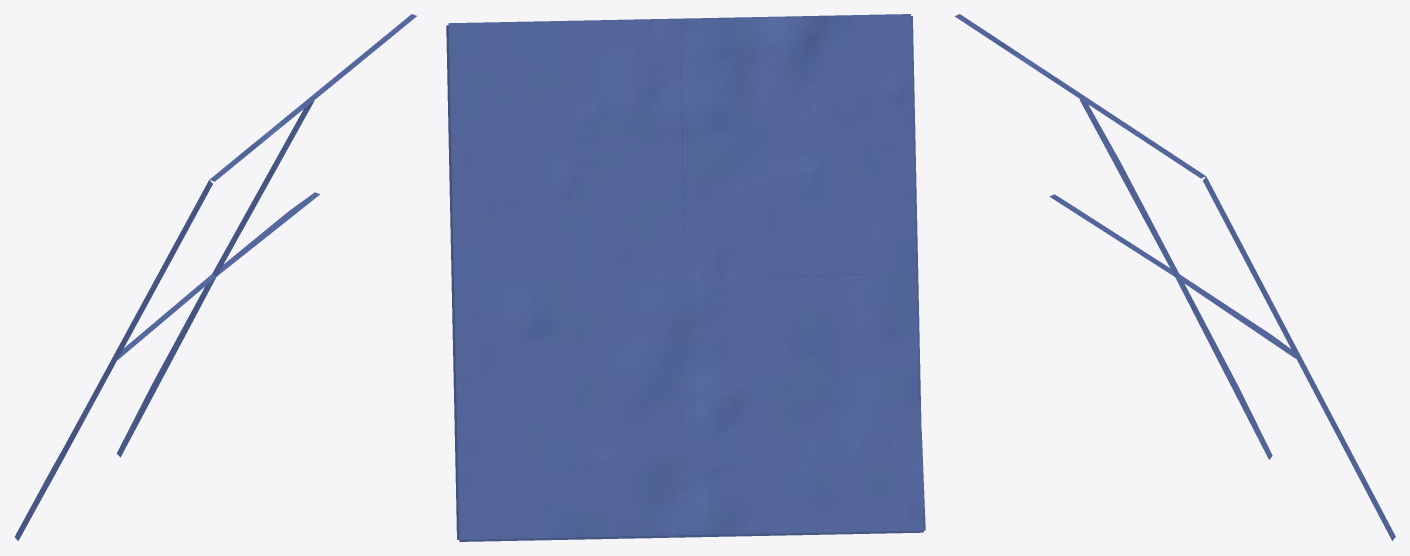
The picture shows the model from 3 angles, left to right: view 1: azimuth 30°, elevation 25°; view 2: azimuth 150°, elevation 25°; view 3: azimuth 270°, elevation 25°; orthographic projection. The views are drawn at different scales.
Bounding box in the file's own units: 78975 × 70810 × 68136.
1 material, 1 textured.
